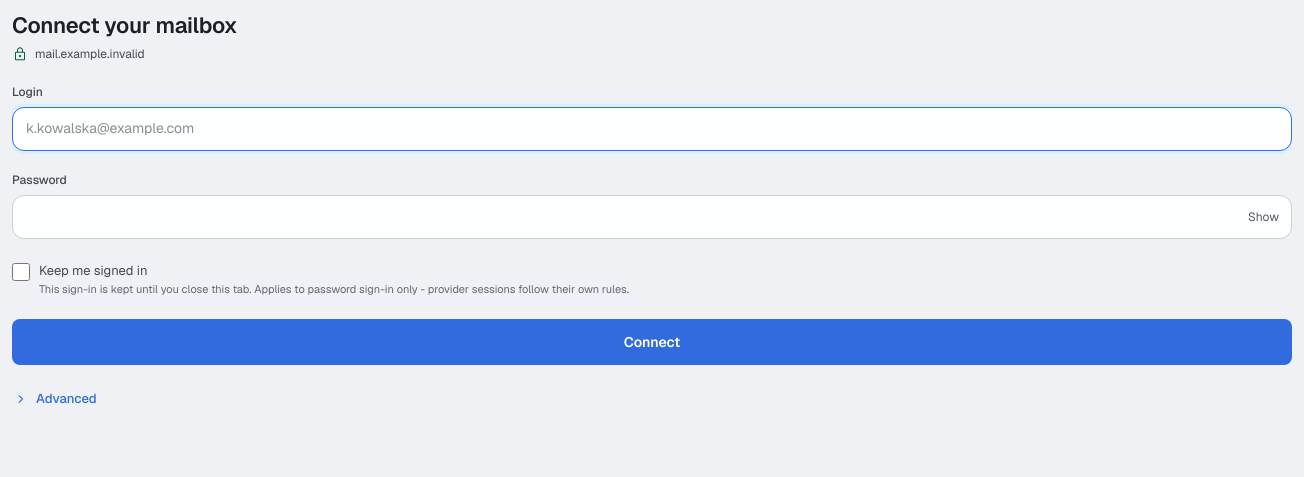
Test: SignIn › refuses a login carrying the separator, rather than presenting a credential split in the wrong place
Type "own:er" into the field labelled "Login" at (652, 128), box [26, 108, 1278, 150]
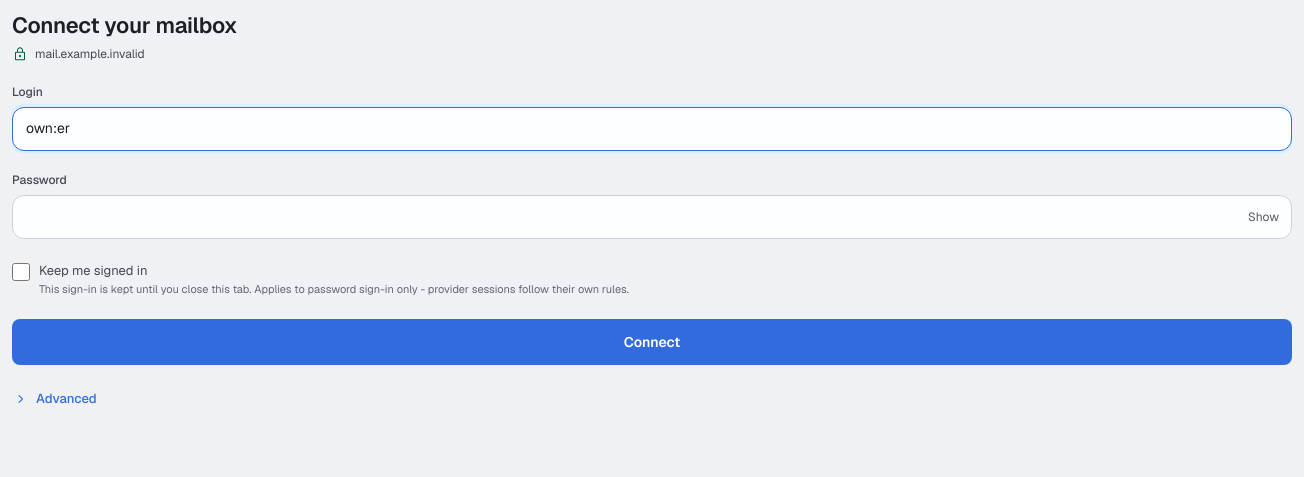
Type "open sesame" into the password field labelled "Password" at (629, 216), box [26, 196, 1232, 238]
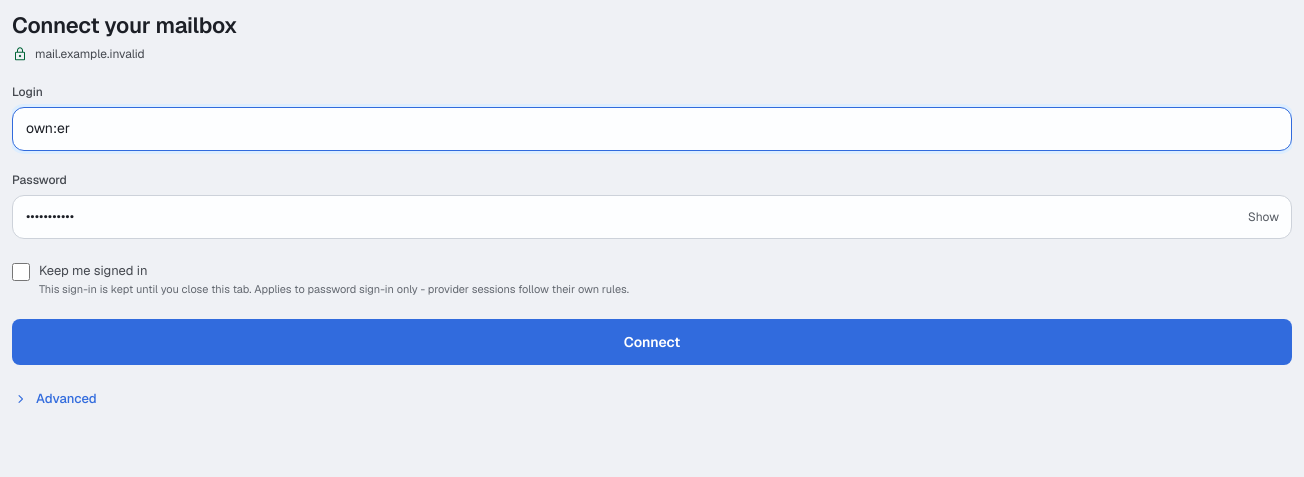
Click the button "Connect" at (652, 342), box [12, 319, 1292, 365]
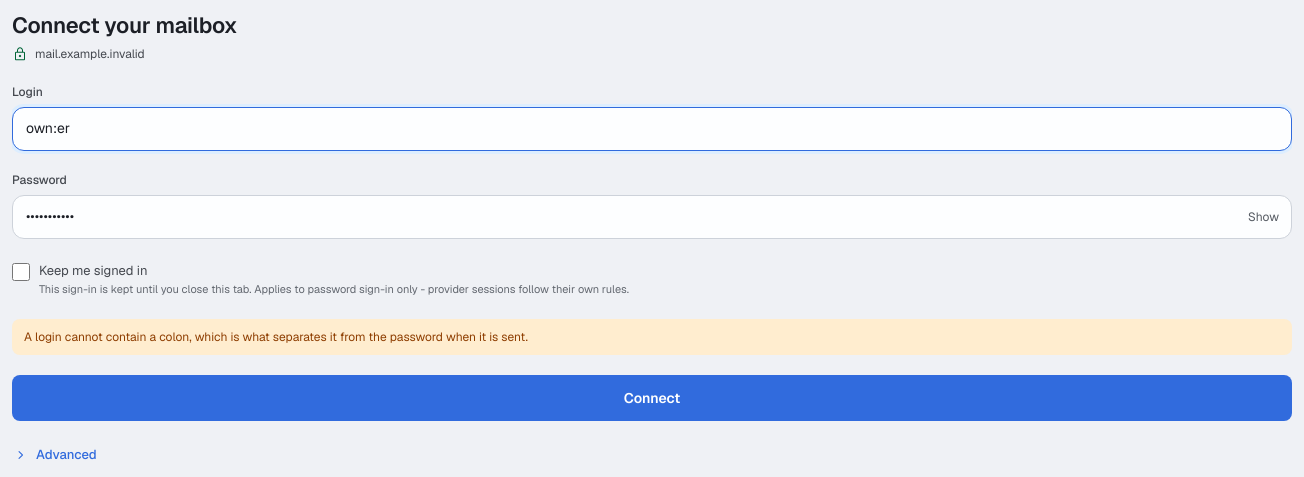
Expected: the message shows "A login cannot contain a colon, which is what separates it from the password when it is sent.", [24, 329, 528, 345]
